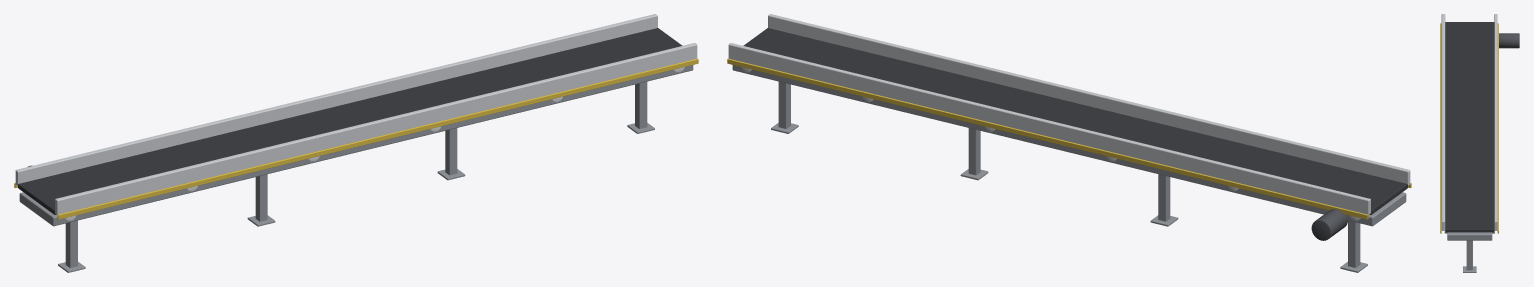
Rendered from conveyor.glb.
3 views of the same model, side by side, from view 1: azimuth 30°, elevation 25°; view 2: azimuth 150°, elevation 25°; view 3: azimuth 270°, elevation 25° (orthographic). The views are drawn at different scales.
Visible parts, largest first — view 1: P_EQ_conveyor_a__belt, P_EQ_conveyor_a__rail_L, P_EQ_conveyor_a__rail_R, P_EQ_conveyor_a__frame, P_EQ_conveyor_a__guard_L, P_EQ_conveyor_a__leg_2, P_EQ_conveyor_a__leg_1, P_EQ_conveyor_a__leg_3, P_EQ_conveyor_a__leg_0; view 2: P_EQ_conveyor_a__belt, P_EQ_conveyor_a__rail_R, P_EQ_conveyor_a__rail_L, P_EQ_conveyor_a__frame, P_EQ_conveyor_a__guard_R, P_EQ_conveyor_a__motor, P_EQ_conveyor_a__leg_0, P_EQ_conveyor_a__leg_1, P_EQ_conveyor_a__leg_2, P_EQ_conveyor_a__leg_3; view 3: P_EQ_conveyor_a__belt, P_EQ_conveyor_a__rail_L, P_EQ_conveyor_a__rail_R, P_EQ_conveyor_a__guard_L, P_EQ_conveyor_a__guard_R, P_EQ_conveyor_a__frame, P_EQ_conveyor_a__motor, P_EQ_conveyor_a__leg_3, P_EQ_conveyor_a__foot_3.
Part boxes in pixels (x1,y1,x2,y2): P_EQ_conveyor_a__belt: (18, 28, 682, 214); P_EQ_conveyor_a__rail_L: (55, 43, 697, 214); P_EQ_conveyor_a__rail_R: (15, 14, 657, 185); P_EQ_conveyor_a__frame: (19, 65, 693, 226); P_EQ_conveyor_a__guard_L: (57, 58, 698, 219); P_EQ_conveyor_a__leg_2: (445, 128, 457, 175); P_EQ_conveyor_a__leg_1: (255, 174, 267, 221); P_EQ_conveyor_a__leg_3: (635, 81, 647, 128); P_EQ_conveyor_a__leg_0: (65, 220, 77, 267); P_EQ_conveyor_a__belt: (743, 28, 1407, 214); P_EQ_conveyor_a__rail_R: (728, 43, 1370, 214); P_EQ_conveyor_a__rail_L: (768, 14, 1410, 185); P_EQ_conveyor_a__frame: (732, 65, 1406, 226); P_EQ_conveyor_a__guard_R: (727, 58, 1368, 219); P_EQ_conveyor_a__motor: (1311, 209, 1347, 240); P_EQ_conveyor_a__leg_0: (1348, 220, 1360, 267); P_EQ_conveyor_a__leg_1: (1158, 174, 1170, 221); P_EQ_conveyor_a__leg_2: (968, 128, 980, 175); P_EQ_conveyor_a__leg_3: (778, 81, 790, 128); P_EQ_conveyor_a__belt: (1445, 22, 1494, 232); P_EQ_conveyor_a__rail_L: (1441, 14, 1445, 230); P_EQ_conveyor_a__rail_R: (1494, 14, 1497, 230); P_EQ_conveyor_a__guard_L: (1440, 23, 1441, 233); P_EQ_conveyor_a__guard_R: (1497, 23, 1498, 233); P_EQ_conveyor_a__frame: (1447, 232, 1492, 240); P_EQ_conveyor_a__motor: (1499, 33, 1519, 48); P_EQ_conveyor_a__leg_3: (1466, 240, 1472, 270); P_EQ_conveyor_a__foot_3: (1463, 266, 1476, 272).
Size of the model in its own units: 7.2 by 0.975 by 1.16.
